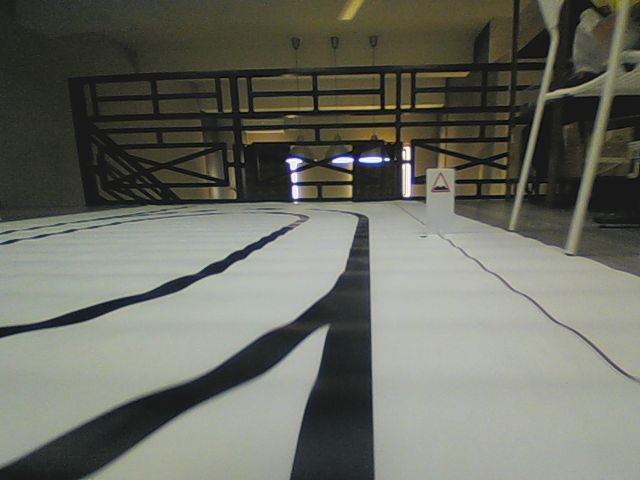Nerov: (429, 171, 451, 193)
